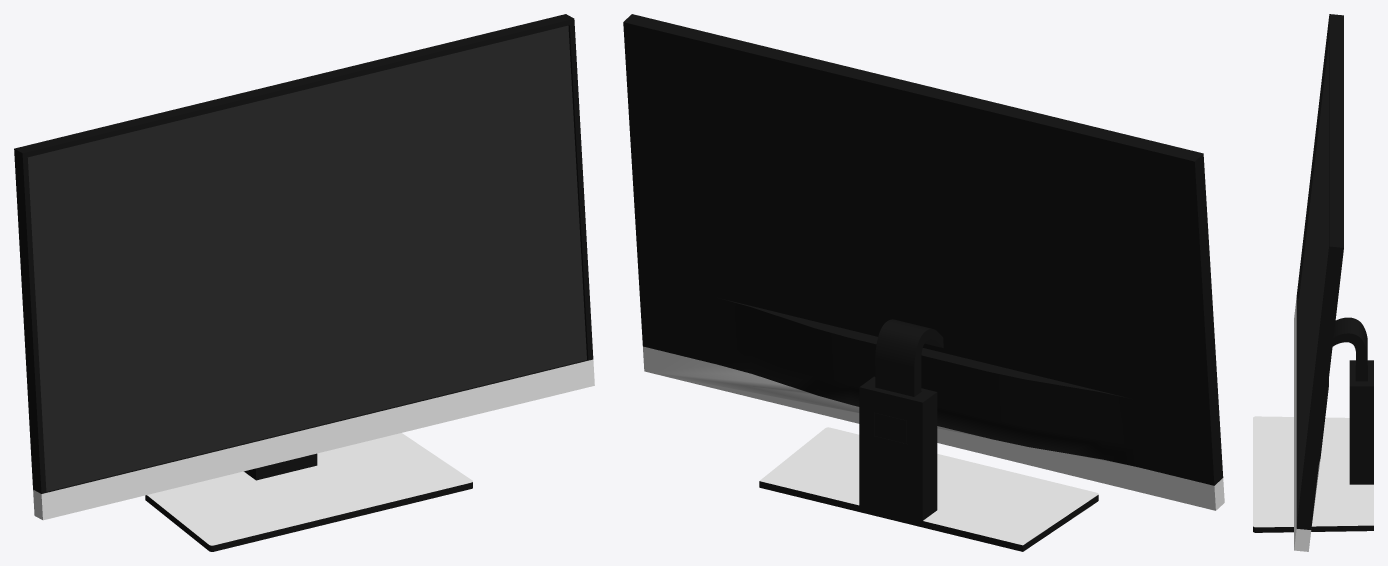
The model's file is monitor.fbx.
3 views of the same model, side by side, from view 1: azimuth 30°, elevation 25°; view 2: azimuth 150°, elevation 25°; view 3: azimuth 270°, elevation 25° (orthographic). The views are drawn at different scales.
Visible parts, largest first — view 1: Cube; view 2: Cube; view 3: Cube.
Boxes of the visible parts, x1,y1,x2,y2 form: Cube: (14, 14, 594, 551); Cube: (623, 14, 1224, 551); Cube: (1253, 14, 1373, 551).
Bounding box in the file's own units: 77.82 × 17.1 × 54.19.
Materials: 1 (1 with a texture image).
